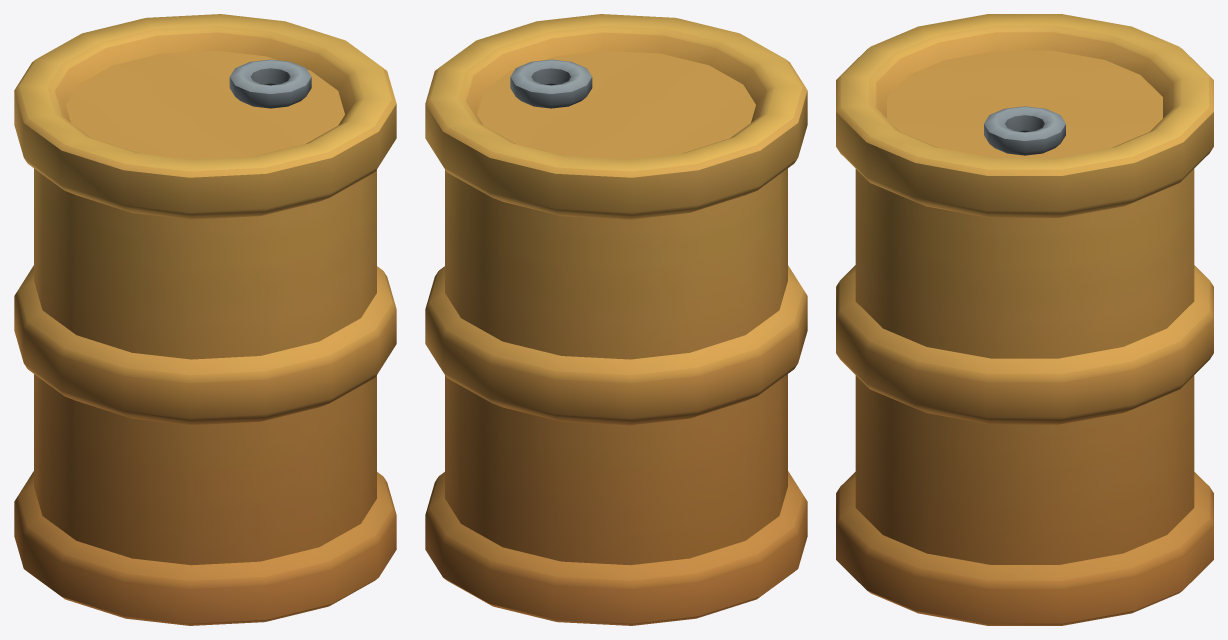
Rendered from fuel_b_barrel.glb.
3 views of the same model, side by side, from view 1: azimuth 30°, elevation 25°; view 2: azimuth 150°, elevation 25°; view 3: azimuth 270°, elevation 25° (orthographic).
Parts seen in each view (by area): view 1: Fuel_B_Barrel; view 2: Fuel_B_Barrel; view 3: Fuel_B_Barrel.
Boxes of the visible parts, x1,y1,x2,y2 form: Fuel_B_Barrel: (14,14,396,625); Fuel_B_Barrel: (425,14,807,625); Fuel_B_Barrel: (836,14,1213,625).
Bounding box in the file's own units: 0.7501 × 1.01 × 0.7501.
1 material, 1 textured.
